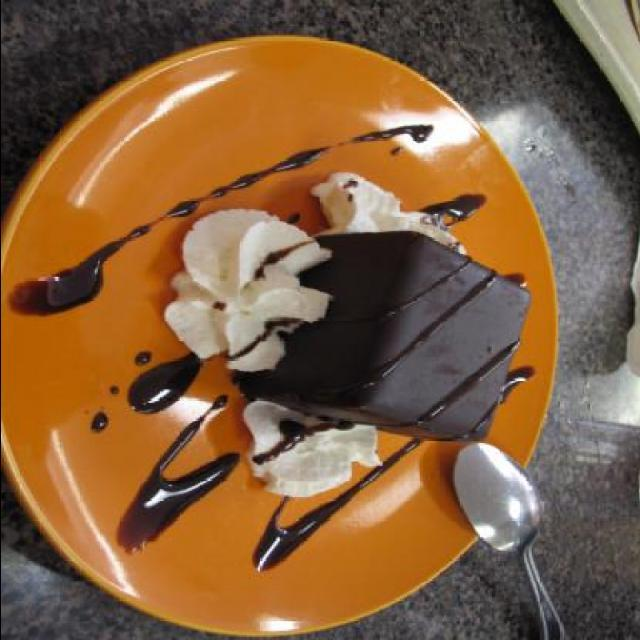Cake: (232, 230, 532, 441)
